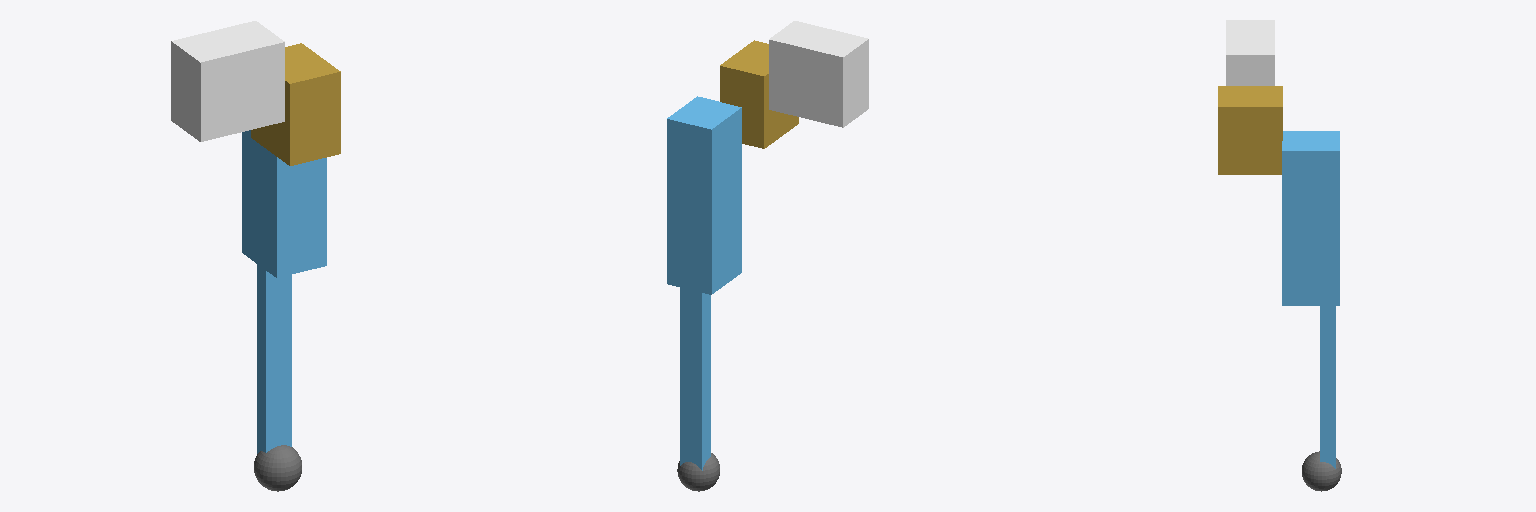
The robot description file, URDF, robot "leg":
<?xml version="1.0" ?>

<!-- Author: [author] -->

<robot name="leg" xmlns:xacro="http://www.ros.org/wiki/xacro">


    <gazebo>
        <plugin filename="libgazebo_ros_control.so" name="gazebo_ros_control">
            <robotNamespace>/leg</robotNamespace>
            <robotSimType>
                gazebo_ros_control/DefaultRobotHWSim
            </robotSimType>
        </plugin>
    </gazebo>


    <material name="black">
        <color rgba="0.0 0.0 0.0 1.0"/>
    </material>
    <material name="blue">
        <color rgba="0.0 0.0 0.8 1.0"/>
    </material>
    <material name="green">
        <color rgba="0.0 0.8 0.0 1.0"/>
    </material>
    <material name="grey">
        <color rgba="0.2 0.2 0.2 1.0"/>
    </material>
    <material name="silver">
        <color rgba="0.913725490196 0.913725490196 0.847058823529 1.0"/>
    </material>
    <material name="orange">
        <color rgba="1.0 0.423529411765 0.0392156862745 1.0"/>
    </material>
    <material name="brown">
        <color rgba="0.870588235294 0.811764705882 0.764705882353 1.0"/>
    </material>
    <material name="white_gray">
        <color rgba="0.823529411765 0.823529411765 0.823529411765 1.0"/>
    </material>
    <material name="gold">
        <color rgba="0.811764705882 0.678431372549 0.301960784314 1.0"/>
    </material>
    <material name="white_blue">
        <color rgba="0.462745098039 0.8 0.992156862745 1.0"/>
    </material>
    <material name="white_black">
        <color rgba="0.494117647059 0.494117647059 0.494117647059 1.0"/>
    </material>
    <material name="red">
        <color rgba="0.8 0.0 0.0 1.0"/>
    </material>
    <material name="white">
        <color rgba="1.0 1.0 1.0 1.0"/>
    </material>

    <gazebo refrence="trunk_inertia">
        <mu1>0.9</mu1>
        <mu2>0.9</mu2>
        <material>Gazebo/White</material>
    </gazebo>

    <link name="world">
        <inertial>
          <mass value="100"/>
          <inertia ixx="0.011253" ixy="0" ixz="0.0" iyy="0.036203" iyz="-0.0" izz="0.042673"/>

        </inertial>
    </link>

    <link name="trunk">
        <visual>
        <origin rpy="0 0 0" xyz="0 0 0.045"/>
        <geometry>
            <box size="0.1 0.06 0.09"/>
        </geometry>
        <material name="white"/>
        </visual>
        <collision>
            <origin rpy="0 0 0" xyz="0 0 0.045"/>
            <geometry>
                <box size="0.1 0.06 0.09"/>
            </geometry>
        </collision>
        <inertial>
            <origin rpy="0 0 0" xyz="0 0 0.045"/>
            <mass value="100"/>
            <inertia ixx="0.011253" ixy="0" ixz="0.0" iyy="0.036203" iyz="-0.0" izz="0.042673"/>
            </inertial>
        </link>

    <joint name="trunk_to_world" type="fixed">
        <origin rpy="0 0 0" xyz="0 0 0.0"/>
        <parent link="world"/>
        <child link="trunk"/>
    </joint>


    <joint name="hip_joint" type="revolute">
        <origin rpy="0 0 0" xyz="0.05 0 0.0"/>
        <parent link="trunk"/>
        <child link="hip"/>
        <axis xyz="1 0 0"/>
        <dynamics damping="0.1" friction="0.1"/>
        <limit effort="20" lower="-3.14" upper="3.14" velocity="1.6"/>
  </joint>

  <link name="hip">
    <visual>
      <origin rpy="0 0 0" xyz="0.03 0.0 0.0"/>
      <geometry>
        <box size="0.06 0.08 0.093"/>
      </geometry>
      <material name="gold"/>
    </visual>
    <collision>
      <origin rpy="0 0 0" xyz="0.03 0.0 0.0"/>
      <geometry>
        <box size="0.06 0.08 0.093"/>
      </geometry>
    </collision>
    <inertial>
      <origin rpy="0 0 0" xyz="0.03 0.0 0.0"/>
      <mass value="0.63"/>
      <inertia ixx="0.0007148275" ixy="0.0" ixz="0.0" iyy="0.0007955775" iyz="0.0" izz="0.00068875"/>
    </inertial>
  </link>

    <joint name="thigh_joint" type="revolute">
    <origin rpy="0 0 0" xyz="0.06 0.015 0"/>
    <parent link="hip"/>
    <child link="thigh"/>
    <axis xyz="0 1 0"/>
    <dynamics damping="0.1" friction="0.1" />
    <limit effort="20" lower="-0.523598775598" upper="3.92699081699" velocity="1.6"/>
  </joint>

  <link name="thigh">
    <visual>
      <origin rpy="0 0 0" xyz="0 0.06 -0.105915"/>
      <geometry>
        <box size="0.06 0.07125 0.21183"/>
      </geometry>
      <material name="white_blue"/>
    </visual>
    <collision>
      <origin rpy="0 0 0" xyz="0 0.06 -0.105915"/>
      <geometry>
        <box size="0.06 0.07125 0.21183"/>
      </geometry>
      <material name="white_blue"/>
    </collision>
    <inertial>
      <origin rpy="0 0 0" xyz="0 0.06 -0.105915"/>
      <mass value="1.062"/>
      <inertia ixx="0.00261820866667" ixy="0.0" ixz="0.0" iyy="0.00265482216667" iyz="0.0" izz="0.000158764166667"/>
    </inertial>
  </link>
  <!-- //////////////////////calf//////////////////// -->
  <joint name="calf_joint" type="revolute">
    <origin rpy="0 0 0" xyz="0 0.07125 -0.21183"/>
<!--    <origin rpy="0 0 0" xyz="0 0.01 -0.1881"/>-->
    <parent link="thigh"/>
    <child link="calf"/>
    <axis xyz="0 1 0"/>
    <dynamics damping="0.1" friction="0.1"/>
    <limit effort="20" lower="-3.14159265359" upper="3.14159265359" velocity="1.6"/>
  </joint>
  <link name="calf">
    <visual>
      <origin rpy="0 0 0" xyz="0.0 0.01 -0.120"/>
      <geometry>
        <box size="0.03 0.02 0.240"/>
          <!--mesh filename="package://first_leg/mesh/calf.dae" scale="1 1 1"/-->
      </geometry>
      <material name="white_blue"/>
    </visual>
    <collision>
      <origin rpy="0 0 0" xyz="0.0 0.01 -0.120"/>
      <geometry>
          <box size="0.03 0.02 0.240"/>
        <!--mesh filename="package://first_leg/mesh/Sim_0_00_04.STL" scale="1 1 1"/-->
      </geometry>
    </collision>
    <inertial>
      <origin rpy="0 0 0" xyz="0.0 0.01 -0.120"/>
      <mass value="0.133"/>
      <inertia ixx="0.000214698666667" ixy="0.0" ixz="0.0" iyy="0.000214698666667" iyz="0.0" izz="2.73066666667e-06"/>
    </inertial>
  </link>
  <!-- //////////////////////foot//////////////////// -->
  <joint name="foot_fixed" type="fixed">
    <origin rpy="0 0 0" xyz="0 0 -0.240"/>
<!--    <origin rpy="0 0 0" xyz="0 0.01 -0.1881"/>-->
    <parent link="calf"/>
    <child link="foot"/>
    <axis xyz="0 1 0"/>
    <dynamics damping="0.1" friction="0.1"/>
    <limit effort="20" lower="-3.14159265359" upper="3.14159265359" velocity="10.6"/>
  </joint>

  <link name="foot">
    <visual>
      <origin rpy="0 0 0" xyz="0 0.002 0"/>
      <geometry>
        <sphere radius="0.025"/>
      </geometry>
      <material name="white_black"/>
    </visual>
    <collision>
      <origin rpy="0 0 0" xyz="0 0.002 0"/>
      <geometry>
        <sphere radius="0.025"/>
      </geometry>
    </collision>
    <inertial>
      <origin rpy="0 0 0" xyz="0 0.002 0"/>
      <mass value="0.005"/>
      <inertia ixx="4.2135e-05" ixy="0.0" ixz="0.0" iyy="4.2135e-05" iyz="0.0" izz="4.2135e-05"/>
    </inertial>
  </link>

  <!--/////////////// transmission tags ////////////////////// -->

<!--    <transmission name="jump_trans">-->
<!--    <type>transmission_interface/SimpleTransmission</type>-->
<!--    <joint name="jumper">-->
<!--      <hardwareInterface>hardware_interface/EffortJointInterface</hardwareInterface>-->
<!--    </joint>-->
<!--    <actuator name="jump_motor">-->
<!--      <hardwareInterface>hardware_interface/EffortJointInterface</hardwareInterface>-->
<!--      <mechanicalReduction>1</mechanicalReduction>-->
<!--    </actuator>-->
<!--  </transmission>-->
  <transmission name="hip_tran">
    <type>transmission_interface/SimpleTransmission</type>
    <joint name="hip_joint">
      <hardwareInterface>hardware_interface/EffortJointInterface</hardwareInterface>
    </joint>
    <actuator name="hip_motor">
      <hardwareInterface>hardware_interface/EffortJointInterface</hardwareInterface>
      <mechanicalReduction>1</mechanicalReduction>
    </actuator>
  </transmission>
  <transmission name="thigh_tran">
    <type>transmission_interface/SimpleTransmission</type>
    <joint name="thigh_joint">
      <hardwareInterface>hardware_interface/EffortJointInterface</hardwareInterface>
    </joint>
    <actuator name="thigh_motor">
      <hardwareInterface>hardware_interface/EffortJointInterface</hardwareInterface>
      <mechanicalReduction>1</mechanicalReduction>
    </actuator>
  </transmission>
  <transmission name="calf_tran">
    <type>transmission_interface/SimpleTransmission</type>
    <joint name="calf_joint">
      <hardwareInterface>hardware_interface/EffortJointInterface</hardwareInterface>
    </joint>
    <actuator name="calf_motor">
      <hardwareInterface>hardware_interface/EffortJointInterface</hardwareInterface>
      <mechanicalReduction>1</mechanicalReduction>
    </actuator>
  </transmission>
</robot>

--- What the picture shows (computed from the rendered views, not written in the file) ---
3 views of the same robot in one strip: view 1: azimuth 30°, elevation 25°; view 2: azimuth 150°, elevation 25°; view 3: azimuth 270°, elevation 25° (orthographic).
Model leg with 6 links and 5 joints (3 revolute, 2 fixed), rooted at world, posed every joint at zero.
Links seen in each view (by area): view 1: trunk, thigh, hip, calf, foot; view 2: thigh, trunk, calf, hip, foot; view 3: thigh, hip, trunk, calf, foot.
Boxes of the visible links, x1,y1,x2,y2 form: trunk: [171, 21, 284, 141]; thigh: [242, 130, 326, 277]; hip: [251, 43, 340, 165]; calf: [257, 264, 291, 453]; foot: [254, 445, 301, 491]; thigh: [667, 96, 741, 294]; trunk: [769, 21, 868, 127]; calf: [680, 288, 710, 470]; hip: [720, 40, 798, 148]; foot: [677, 453, 719, 491]; thigh: [1282, 131, 1339, 305]; hip: [1218, 86, 1282, 174]; trunk: [1226, 20, 1274, 85]; calf: [1320, 306, 1335, 468]; foot: [1302, 451, 1341, 491].
Bounding box of the posed robot: 0.19 × 0.1533 × 0.5668 m (x, y, z).
Geometry: primitives only (box / cylinder / sphere), no mesh files.